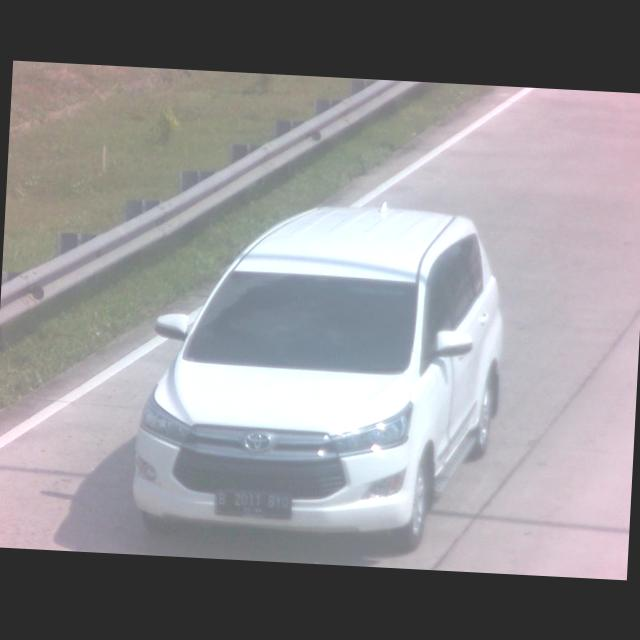plate: (214, 490, 292, 520)
